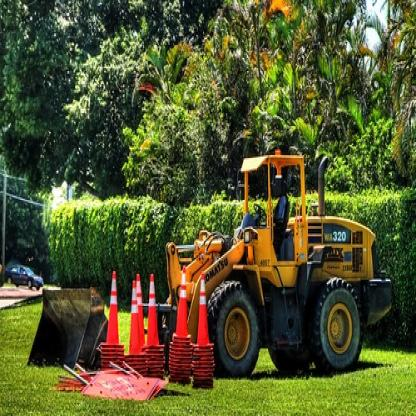bull_dozer/loader/grader: (152, 118, 400, 392)
